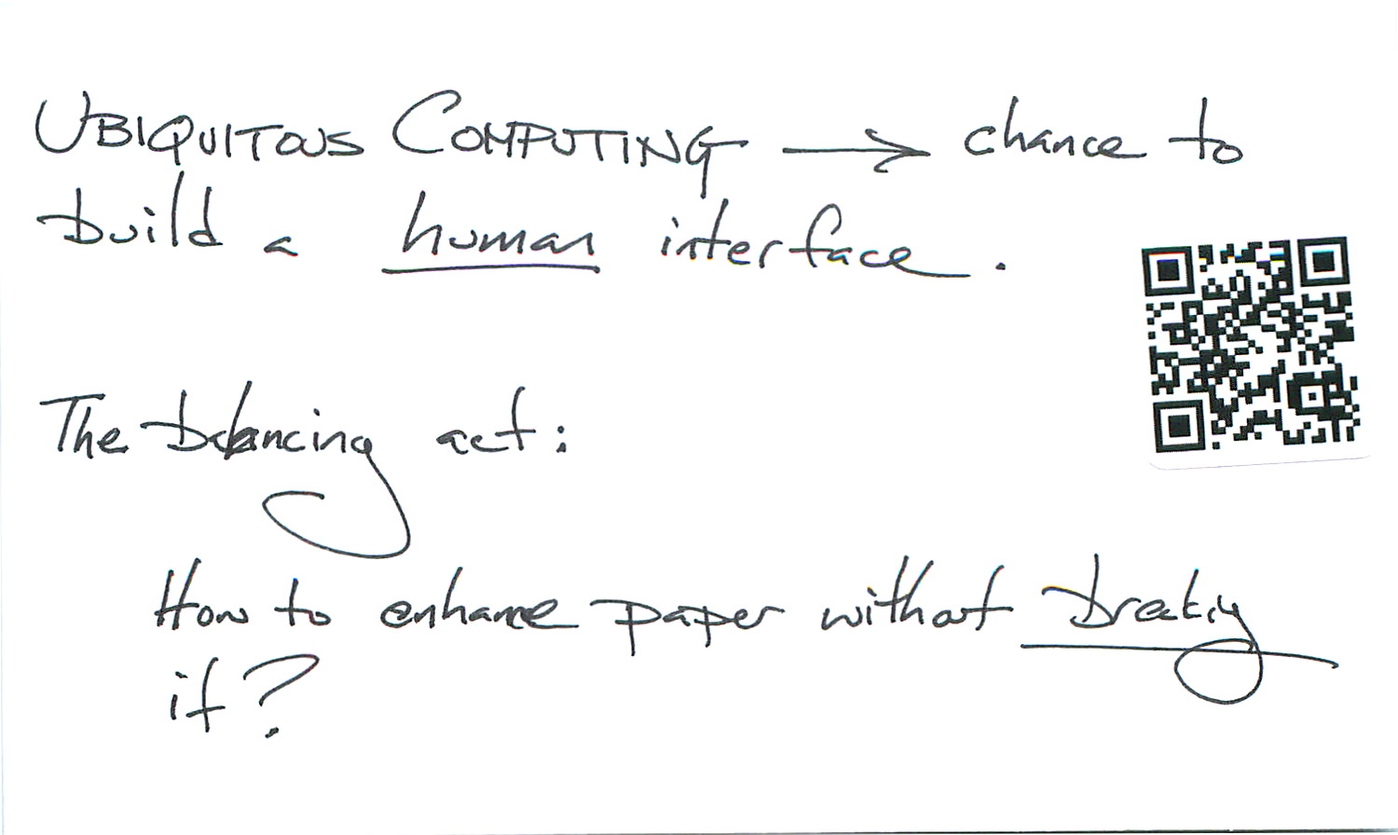QR-CODE: (1142, 237, 1361, 452)
